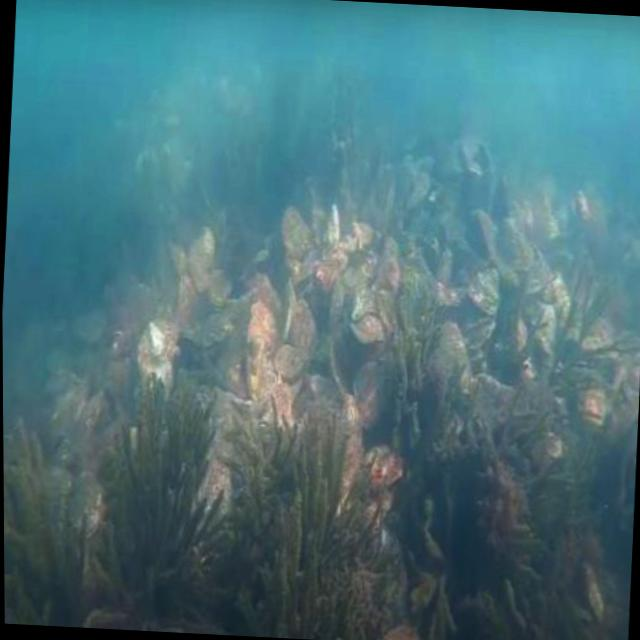Oyster-Closed: (379, 258, 400, 298), (593, 317, 613, 345), (356, 298, 377, 321)
Oyster-Indeterminate: (333, 399, 364, 504), (470, 375, 518, 432), (433, 326, 472, 394), (199, 453, 234, 517), (355, 362, 385, 425), (287, 300, 317, 358), (470, 207, 499, 260), (527, 298, 556, 351), (189, 228, 214, 288), (332, 334, 355, 399), (286, 215, 313, 270), (252, 301, 279, 356), (470, 263, 499, 314), (368, 447, 403, 489), (272, 343, 309, 381), (246, 319, 265, 386), (258, 273, 282, 323), (523, 264, 554, 298), (585, 563, 602, 621), (348, 316, 383, 344), (209, 268, 232, 310), (346, 220, 373, 254), (324, 204, 340, 259), (463, 319, 495, 344), (284, 275, 295, 339), (384, 623, 423, 640), (411, 174, 430, 208), (331, 278, 345, 323), (516, 316, 526, 352)
Oyster-Open: (580, 387, 607, 427)
